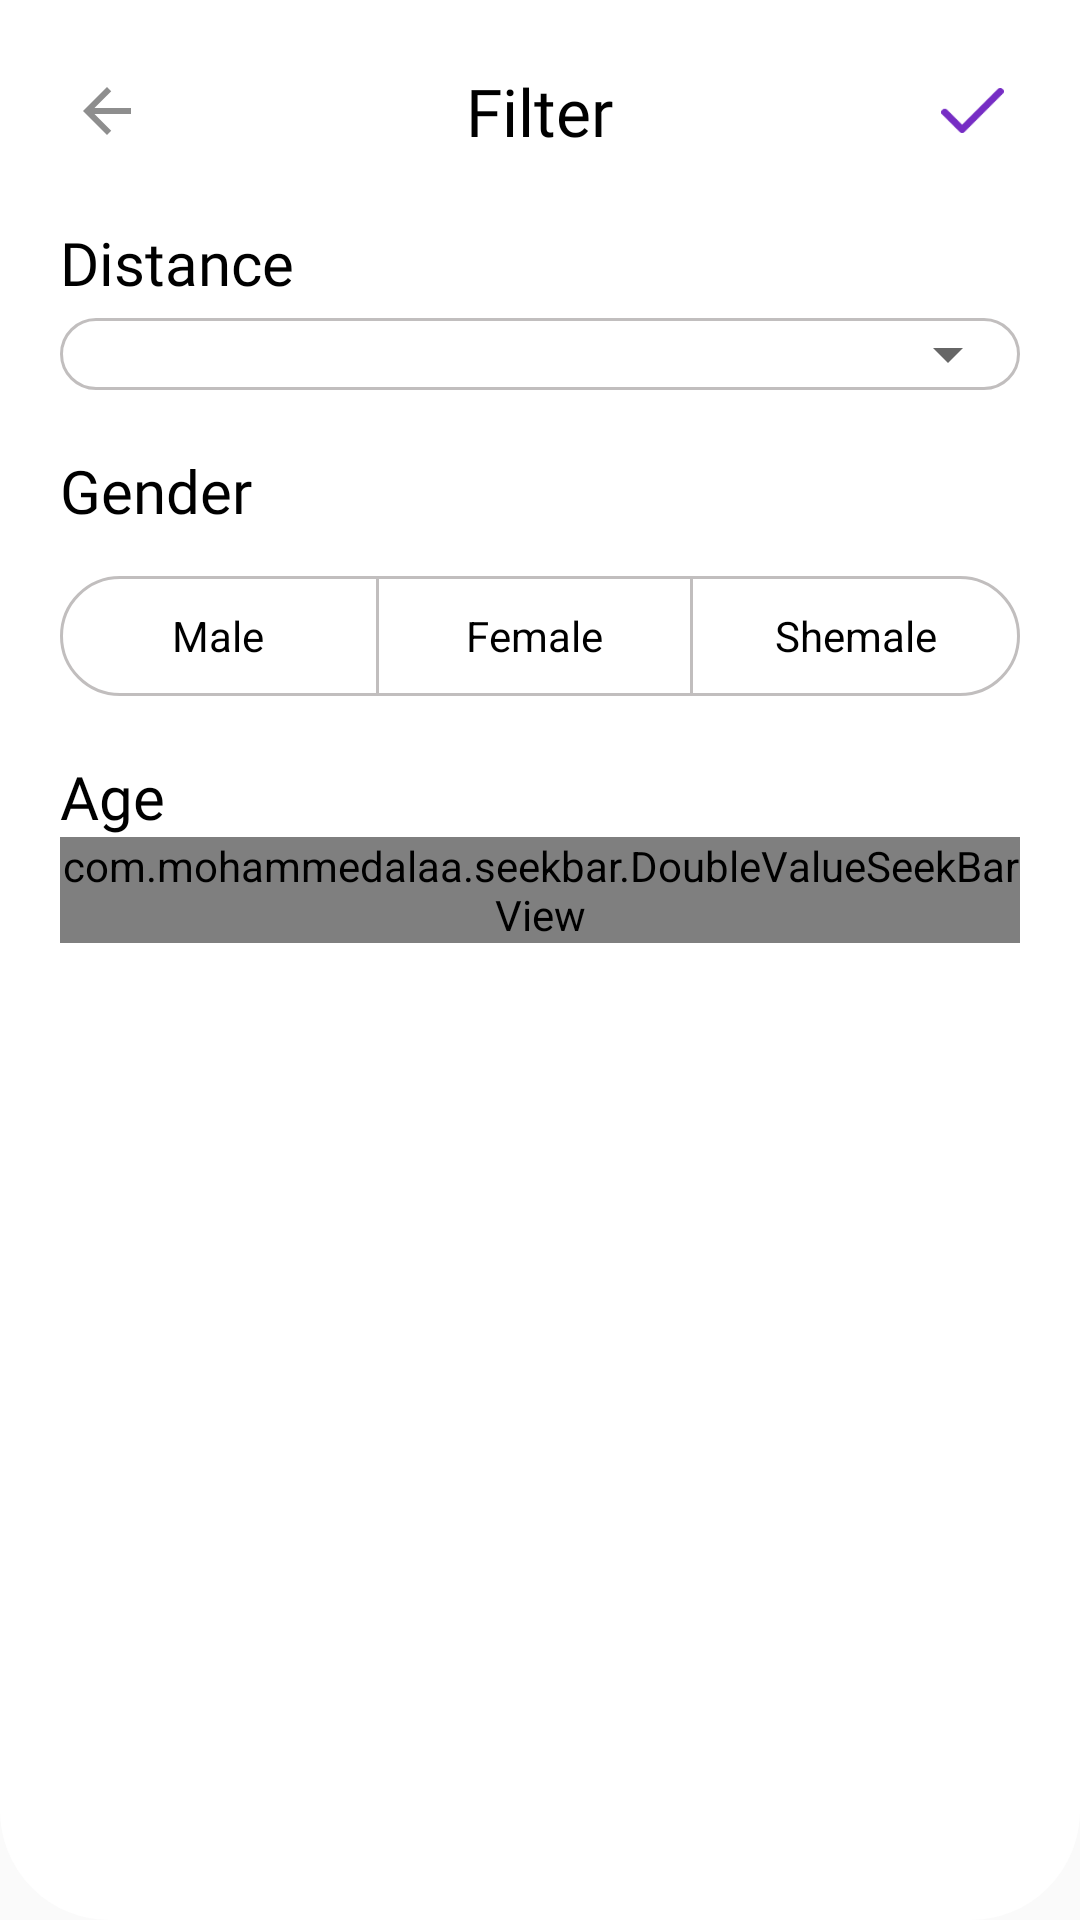

Named icons in this screenshot (1080 × 1920) and their bounding boxes, bbox(x1, y1, x2, y2):
arrow back: bbox(83, 87, 131, 135)
mark: bbox(941, 88, 1004, 133)
